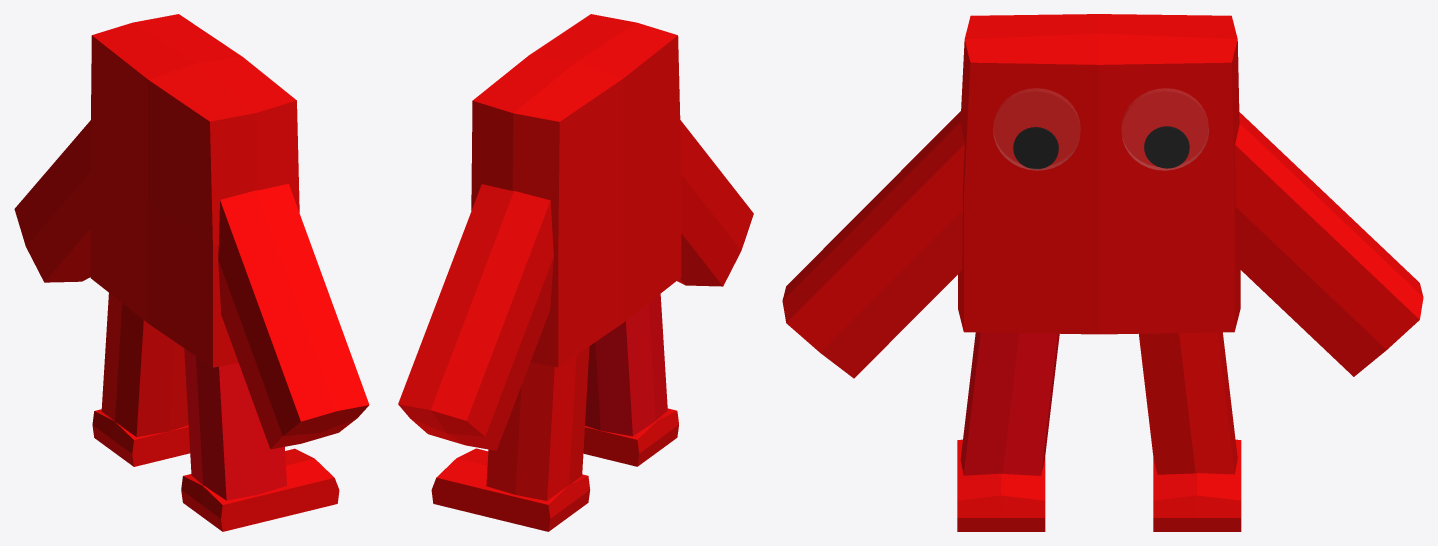
Rendered from guy.fbx.
3 renders of one model, left to right at view 1: azimuth 30°, elevation 25°; view 2: azimuth 150°, elevation 25°; view 3: azimuth 270°, elevation 25°, orthographic. The views are drawn at different scales.
Visible parts, largest first — view 1: Head, Right Arm, Right Leg, Left Leg, Left Arm, Right Foot, Left Foot; view 2: Head, Left Arm, Left Leg, Right Leg, Right Arm, Left Foot, Right Foot; view 3: Head, Left Arm, Right Arm, Right Leg, Left Leg, Left Foot, Right Foot, Right Eye Capsule, Left Eye Capsule, Right Eye, Left Eye.
Part boxes in pixels (<box>): Head: <box>90,14,299,367</box>; Right Arm: <box>218,184,369,449</box>; Right Leg: <box>184,348,286,500</box>; Left Leg: <box>101,293,188,437</box>; Left Arm: <box>14,120,90,282</box>; Right Foot: <box>181,448,339,531</box>; Left Foot: <box>92,409,190,466</box>; Head: <box>471,14,681,367</box>; Left Arm: <box>398,184,553,450</box>; Left Leg: <box>486,346,589,500</box>; Right Leg: <box>585,294,667,436</box>; Right Arm: <box>677,120,753,286</box>; Left Foot: <box>431,448,590,531</box>; Right Foot: <box>583,408,678,466</box>; Head: <box>958,14,1240,334</box>; Left Arm: <box>1235,112,1423,376</box>; Right Arm: <box>782,111,964,378</box>; Right Leg: <box>960,332,1059,475</box>; Left Leg: <box>1139,332,1237,474</box>; Left Foot: <box>1153,439,1241,531</box>; Right Foot: <box>957,439,1045,531</box>; Right Eye Capsule: <box>993,89,1079,170</box>; Left Eye Capsule: <box>1122,89,1208,170</box>; Right Eye: <box>1013,127,1058,169</box>; Left Eye: <box>1144,126,1189,168</box>.
Size of the model in its own units: 226 by 704 by 897.
